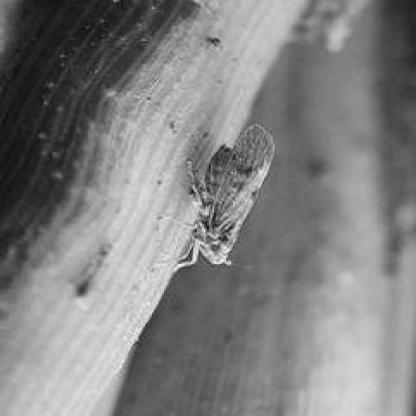brown-planthopper: (185, 123, 278, 268)
